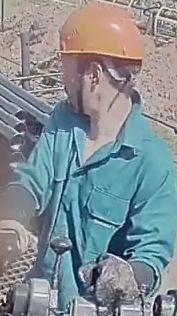gloves: (76, 250, 154, 307)
helmet: (56, 2, 146, 74)
vest: (0, 105, 177, 307)
